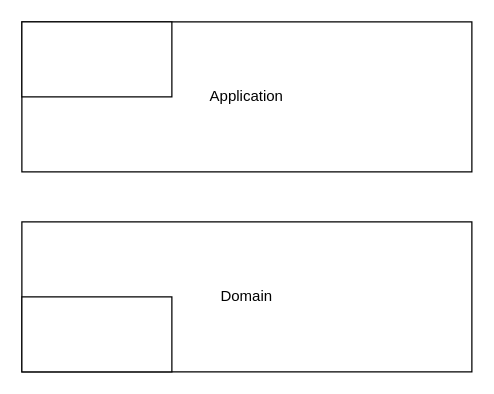
Image size: 494x394. Some labels were removed from this diagram. Each missing label, with the box of its shape:
CreditCard: (21, 296, 172, 372)
CreditCardFacade: (21, 21, 172, 97)
